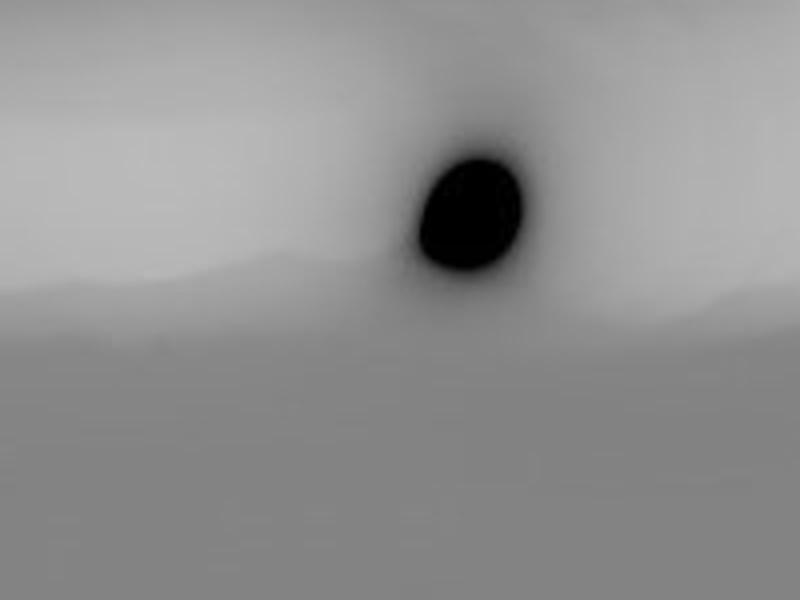defect: (415, 159, 524, 274)
